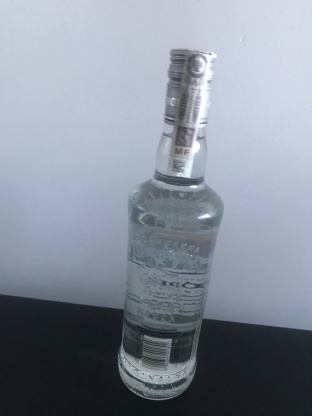nakretka: (161, 42, 218, 130)
